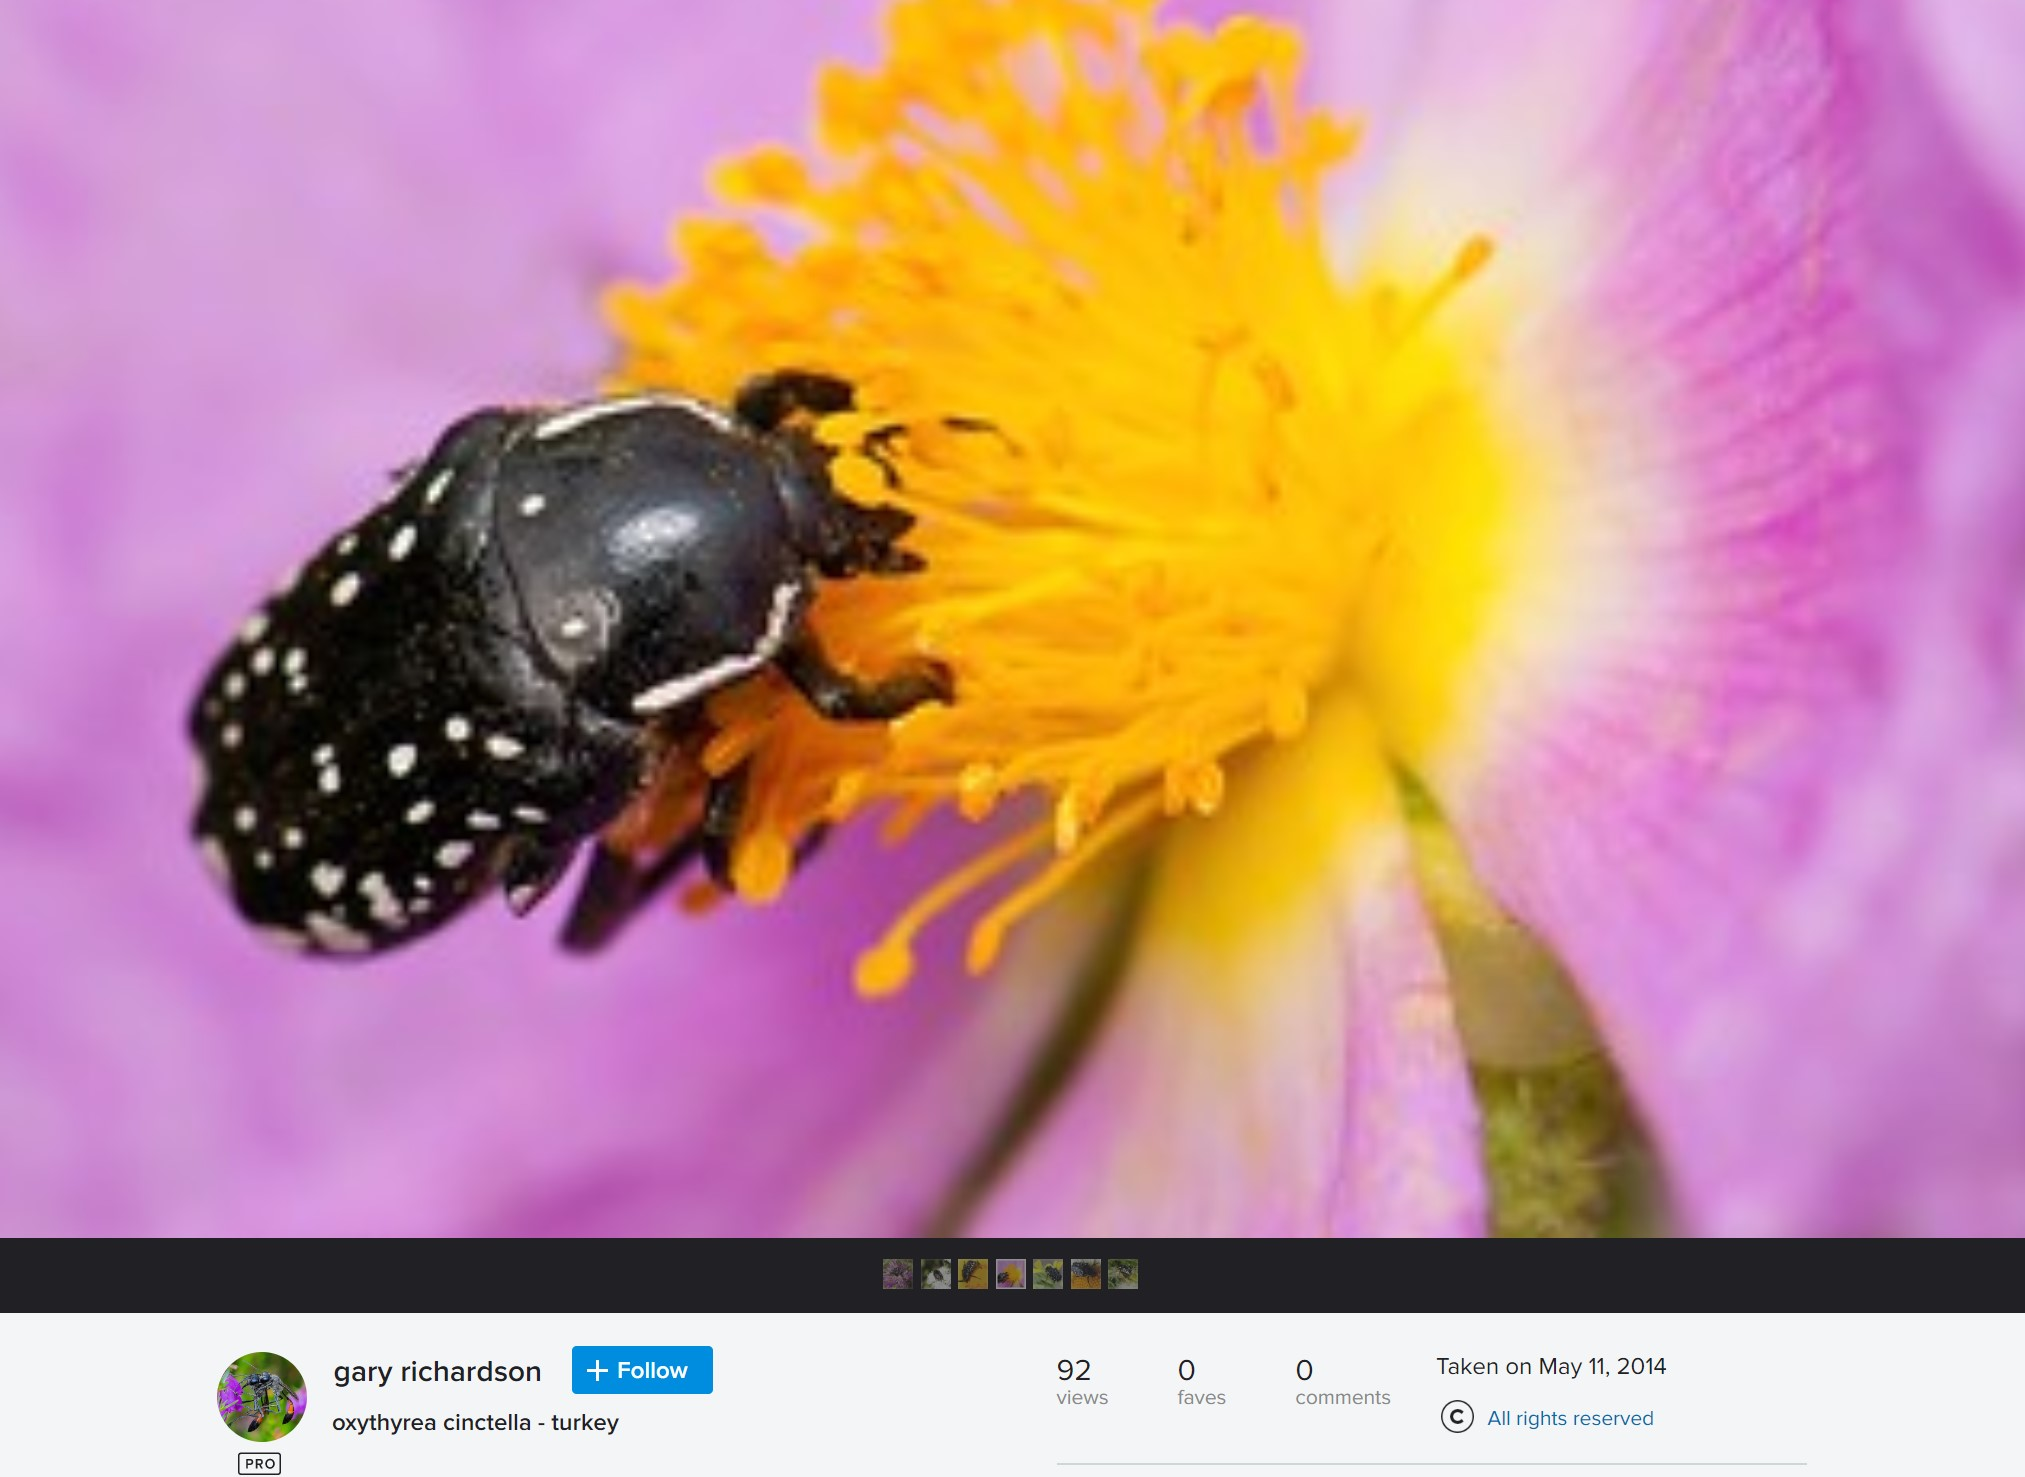Oxythyrea_cinctella: (141, 313, 1019, 1002)
